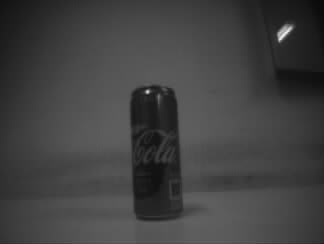Tin can: (129, 84, 184, 222)
